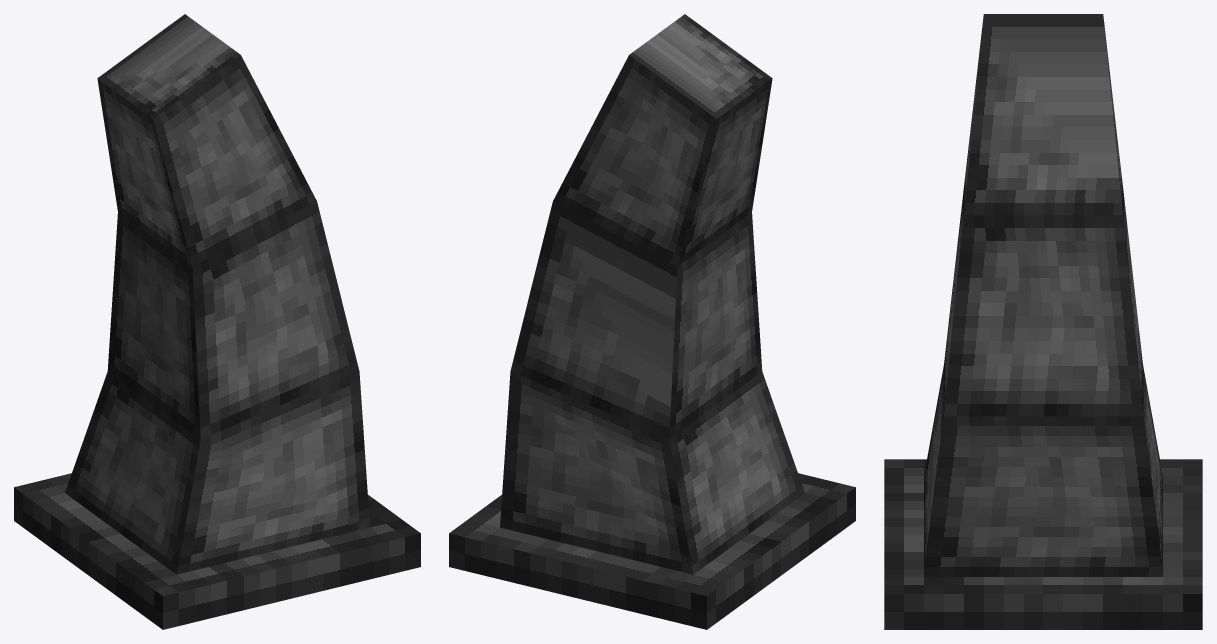
File: arcane_pillar.obj
3 views of the same model, side by side, from view 1: azimuth 30°, elevation 25°; view 2: azimuth 150°, elevation 25°; view 3: azimuth 270°, elevation 25° (orthographic). The views are drawn at different scales.
Parts seen in each view (by area): view 1: prong, base; view 2: prong, base; view 3: prong, base.
Part boxes in pixels (bbox=[...]): prong: bbox=[65, 14, 369, 574]; base: bbox=[14, 473, 420, 629]; prong: bbox=[500, 14, 804, 574]; base: bbox=[449, 473, 855, 629]; prong: bbox=[924, 14, 1162, 576]; base: bbox=[884, 459, 1202, 629].
Size of the model in its own units: 1 by 1.89 by 1.
